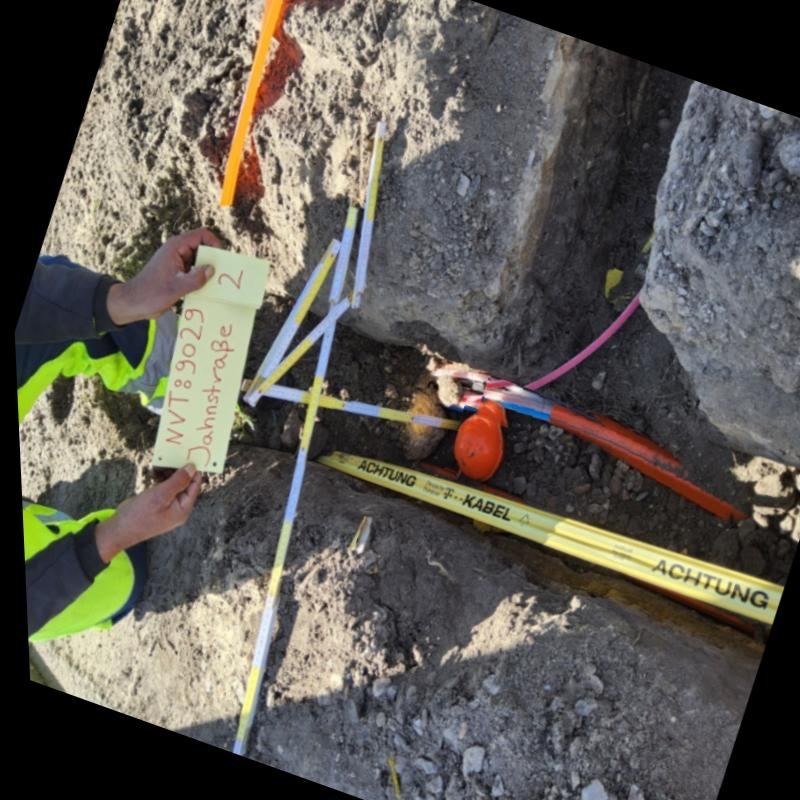Kugelmarker: (447, 410, 498, 479)
Orang-Speednetrohrchen: (479, 374, 738, 520)
